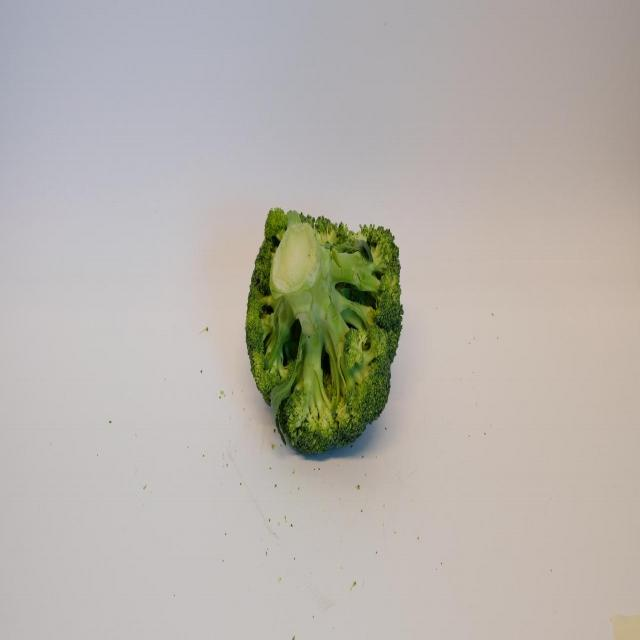broccoli: (240, 173, 405, 462)
